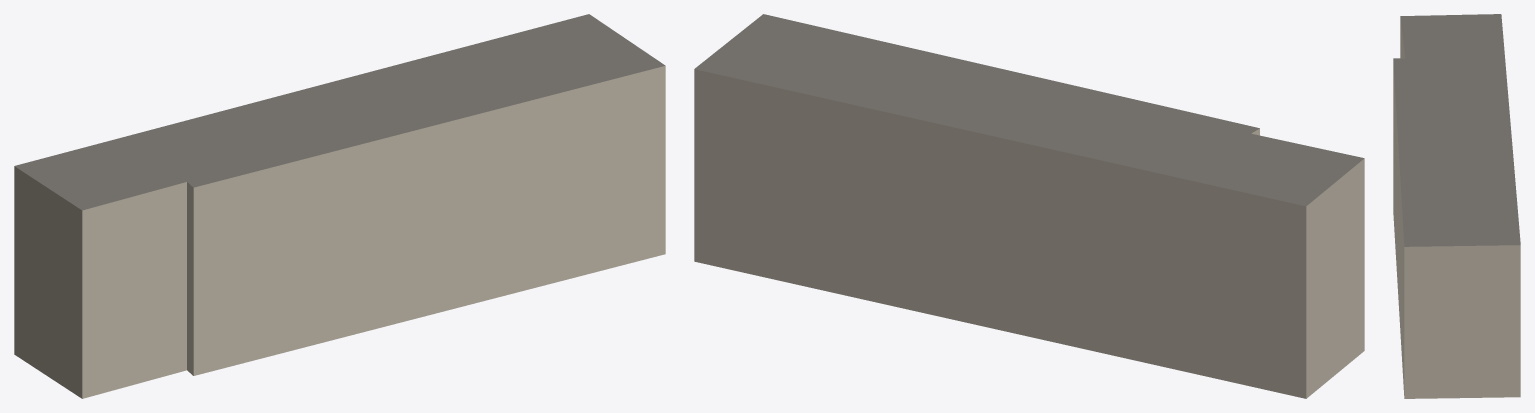
3 renders of one model, left to right at view 1: azimuth 30°, elevation 25°; view 2: azimuth 150°, elevation 25°; view 3: azimuth 270°, elevation 25°, orthographic. The views are drawn at different scales.
Visible parts, largest first — view 1: HP-w505646877; view 2: HP-w505646877; view 3: HP-w505646877.
Boxes of the visible parts, x1=… form: HP-w505646877: x1=14, y1=14, x2=665, y2=398; HP-w505646877: x1=694, y1=14, x2=1364, y2=398; HP-w505646877: x1=1393, y1=14, x2=1520, y2=398.
Size of the model in its own units: 39.41 by 12 by 9.12.
